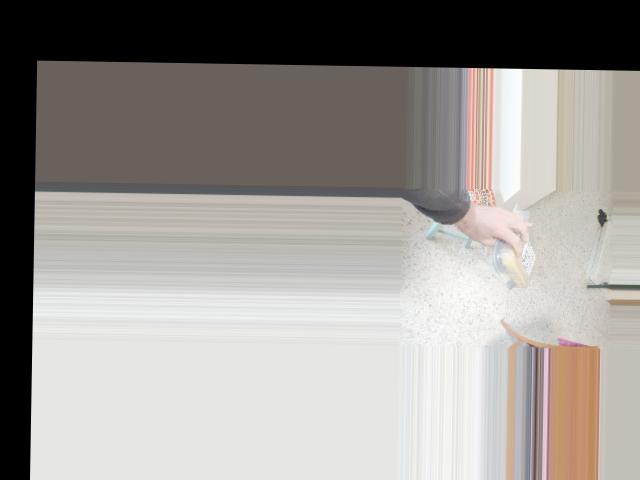cheese: (498, 215, 536, 289)
